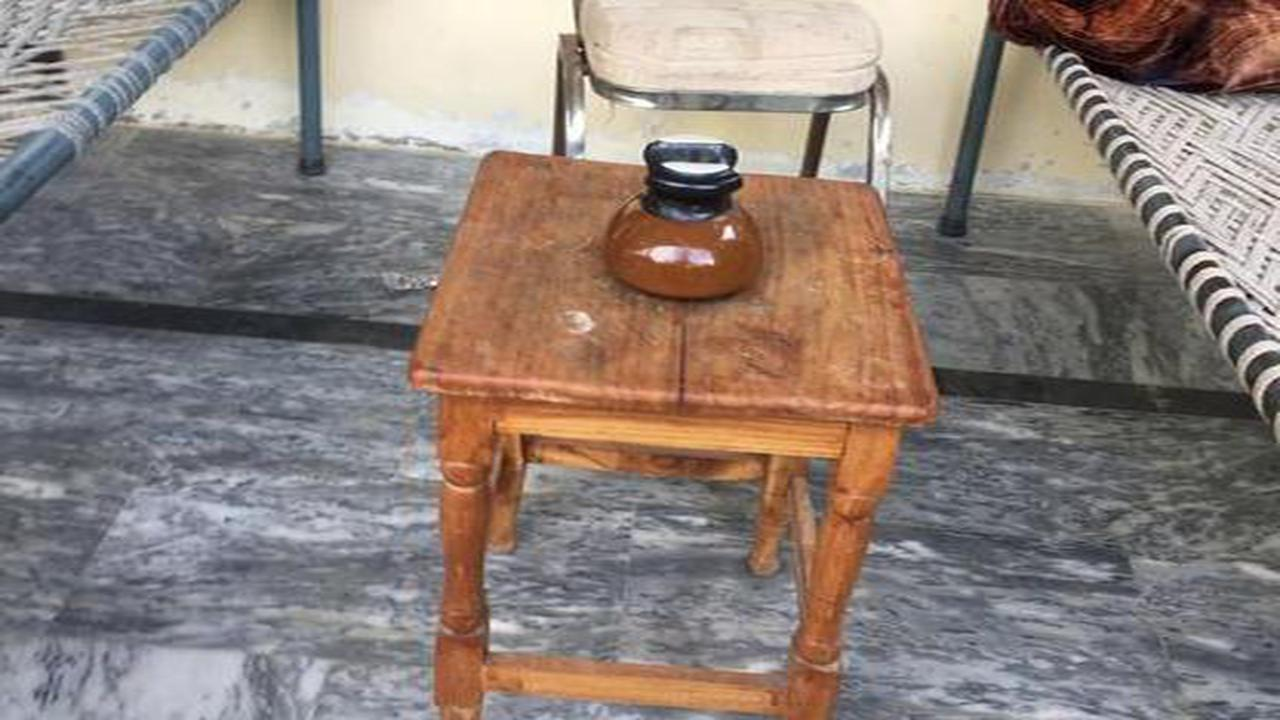insulator_pin: (573, 116, 788, 316)
